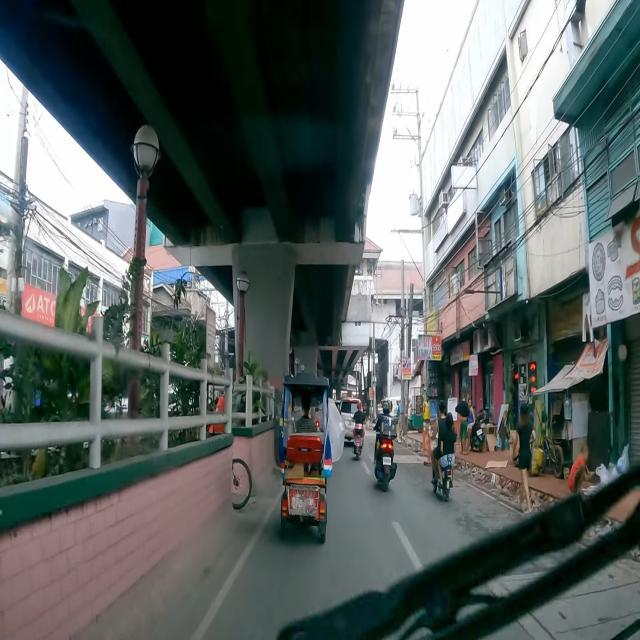bike: (190, 384, 253, 509), (536, 417, 564, 479)
car: (338, 398, 364, 446)
motorcycle: (429, 401, 457, 502), (513, 401, 537, 514), (372, 398, 398, 494), (350, 400, 367, 461), (470, 416, 485, 453)
tricycle: (278, 364, 332, 544)
